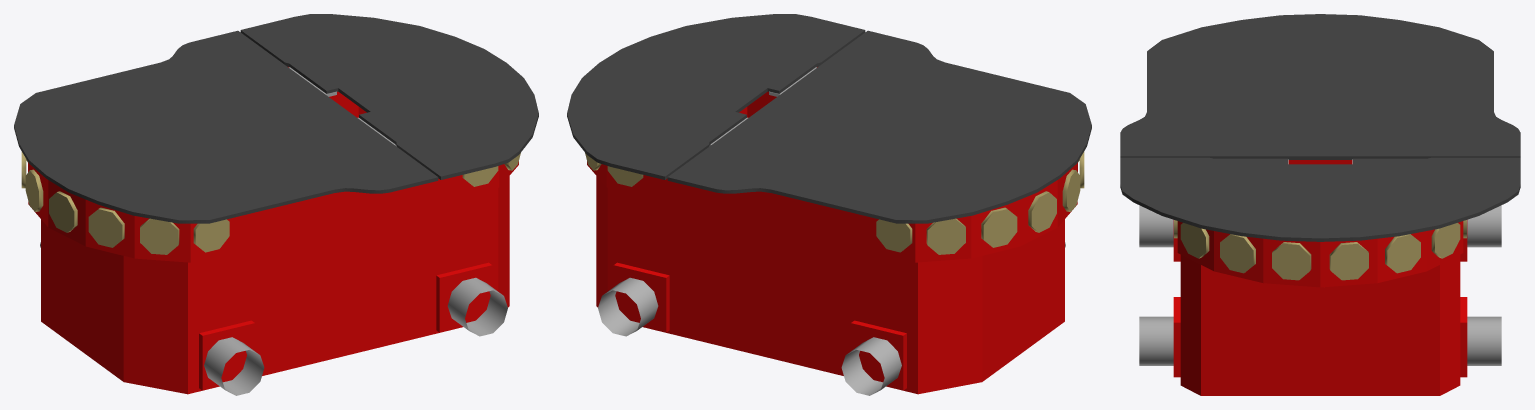
Rendered from chassis.dae.
3 views of the same model, side by side, from view 1: azimuth 30°, elevation 25°; view 2: azimuth 150°, elevation 25°; view 3: azimuth 270°, elevation 25° (orthographic).
Parts seen in each view (by area): view 1: Cube_001, Plane_001, Cylinder_003, Plane_007, Plane_002, Plane_006, Plane_005, Cylinder_002, Cylinder; view 2: Cube_001, Plane_001, Cylinder_002, Plane_012, Plane_015, Plane_013, Plane_014, Cylinder_003, Cylinder_001; view 3: Cube_001, Plane_001, Cylinder, Cylinder_001, Plane_007, Plane_012, Plane_002, Plane_015, Plane_006, Plane_013.
Part boxes in pixels (x1,y1,x2,y2): Cube_001: (14, 14, 538, 223); Plane_001: (28, 67, 518, 394); Cylinder_003: (49, 191, 229, 254); Plane_007: (447, 277, 507, 336); Plane_002: (204, 337, 264, 395); Plane_006: (436, 262, 492, 332); Plane_005: (199, 320, 254, 390); Cylinder_002: (21, 151, 43, 211); Cylinder: (462, 153, 520, 186); Cube_001: (567, 14, 1091, 223); Plane_001: (587, 67, 1077, 394); Cylinder_002: (876, 191, 1056, 254); Plane_012: (598, 277, 658, 336); Plane_015: (841, 337, 901, 395); Plane_013: (613, 262, 669, 332); Plane_014: (851, 320, 906, 390); Cylinder_003: (1062, 151, 1084, 211); Cylinder_001: (585, 153, 643, 186); Cube_001: (1120, 14, 1520, 241); Plane_001: (1177, 160, 1463, 395); Cylinder: (1174, 220, 1311, 280); Cylinder_001: (1329, 220, 1466, 280); Plane_007: (1139, 316, 1173, 365); Plane_012: (1467, 316, 1501, 365); Plane_002: (1139, 205, 1173, 247); Plane_015: (1467, 205, 1501, 247); Plane_006: (1173, 297, 1180, 377); Plane_013: (1460, 297, 1467, 377).
Size of the model in its own units: 0.5106 by 0.3831 by 0.1956.
